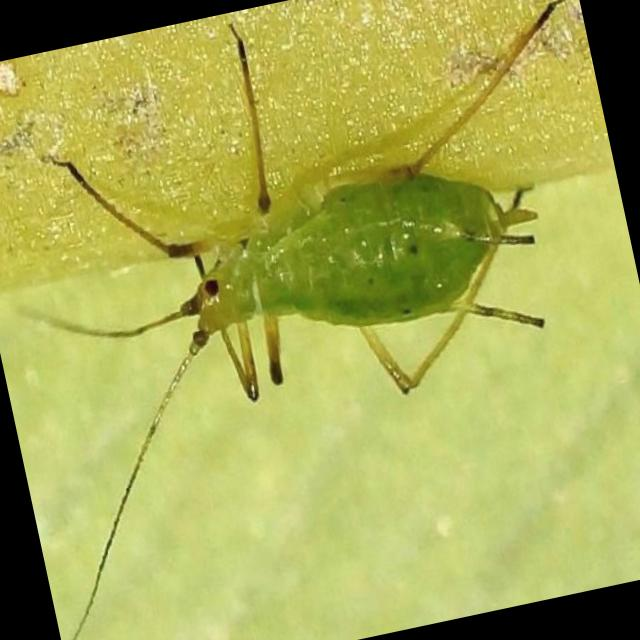Aphids: (0, 0, 623, 520)
